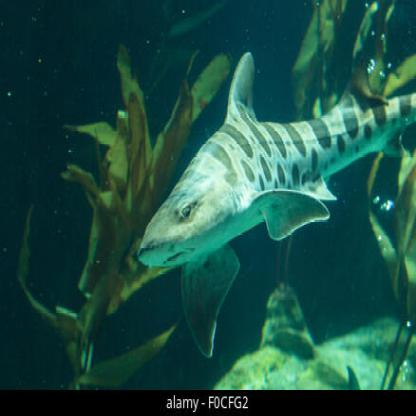zebra_shark: (129, 38, 415, 273)
